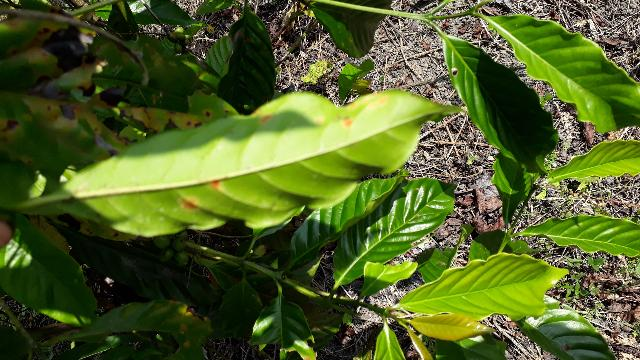rust_level_1: (23, 89, 454, 235)
